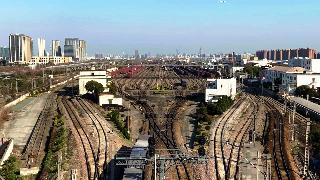train: (180, 78, 186, 85), (140, 99, 147, 103)
